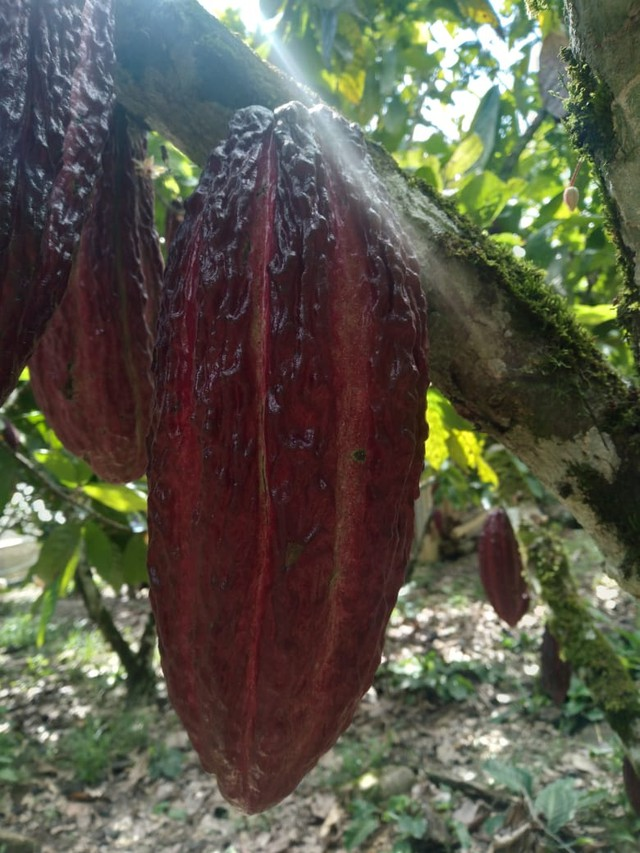Health: (130, 93, 450, 824)
